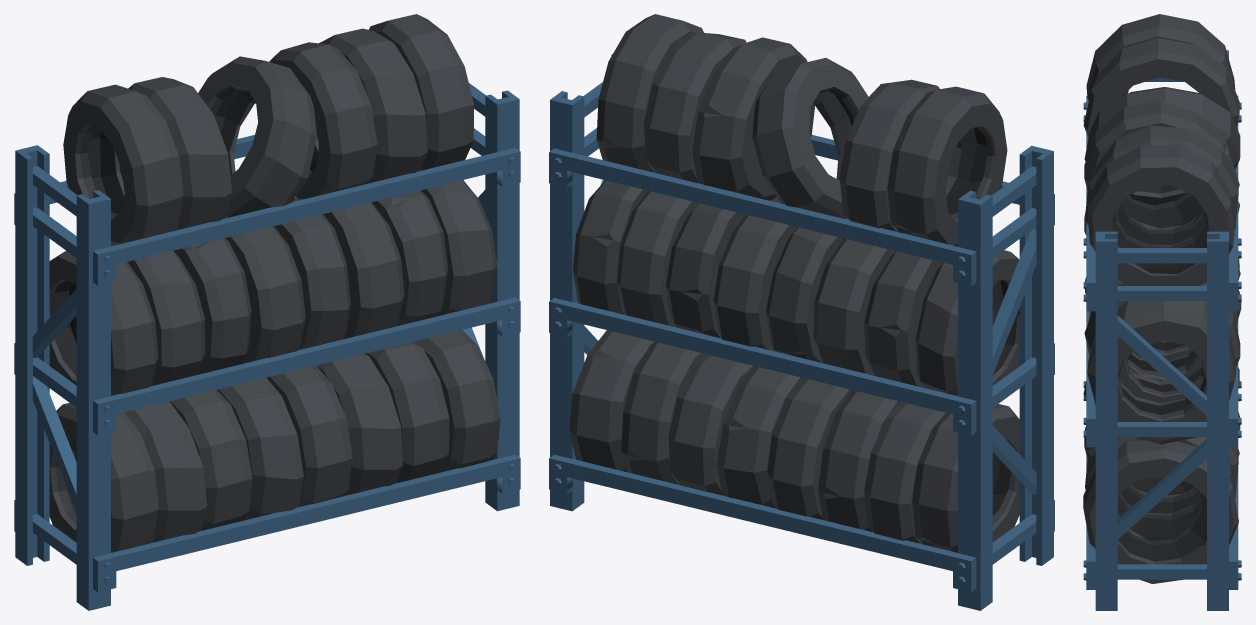
Rendered from Tire Rack.fbx.
The picture shows the model from 3 angles, left to right: view 1: azimuth 30°, elevation 25°; view 2: azimuth 150°, elevation 25°; view 3: azimuth 270°, elevation 25°; orthographic projection. The views are drawn at different scales.
Visible parts, largest first — view 1: PSP_TireRack; view 2: PSP_TireRack; view 3: PSP_TireRack.
Part boxes in pixels (x1,y1,x2,y2): PSP_TireRack: (14,14,520,610); PSP_TireRack: (549,14,1054,610); PSP_TireRack: (1083,14,1241,610).
Size of the model in its own units: 2.16 by 2.27 by 0.7576.
